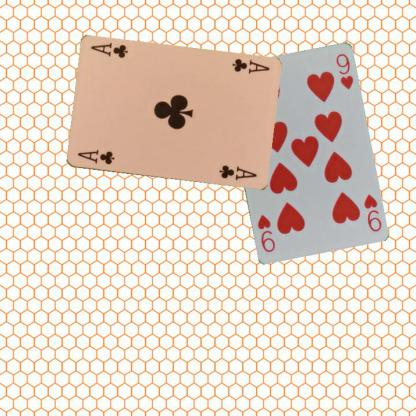9h: (360, 191, 382, 233)
Ac: (74, 147, 116, 166), (229, 56, 271, 75)
